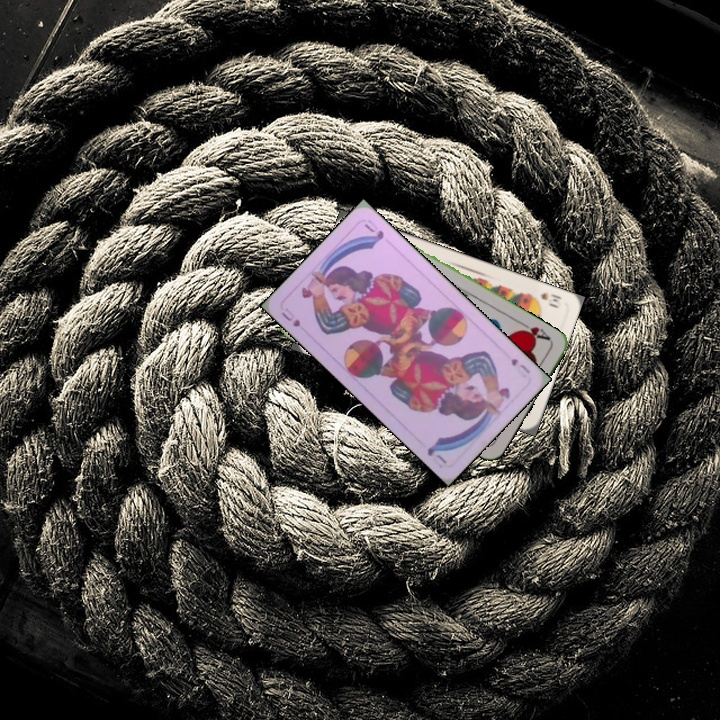HA: (514, 318, 553, 343)
S10: (526, 289, 565, 311)
SU: (278, 303, 303, 329), (507, 354, 533, 376)
